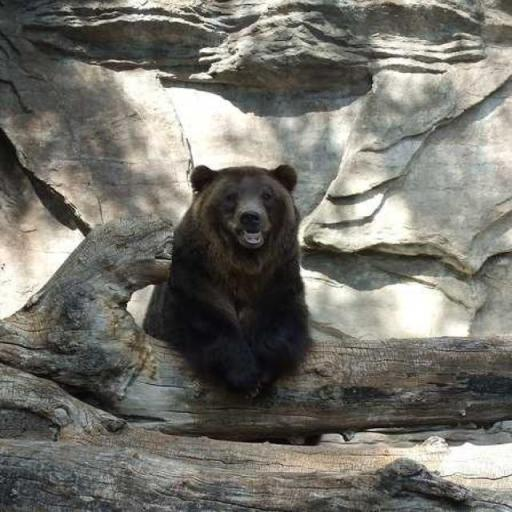Bear: (165, 163, 313, 397)
